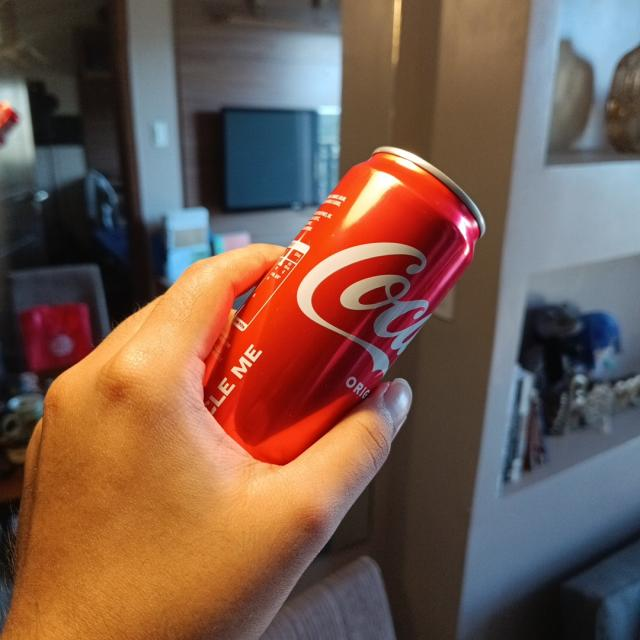coke: (203, 143, 484, 462)
